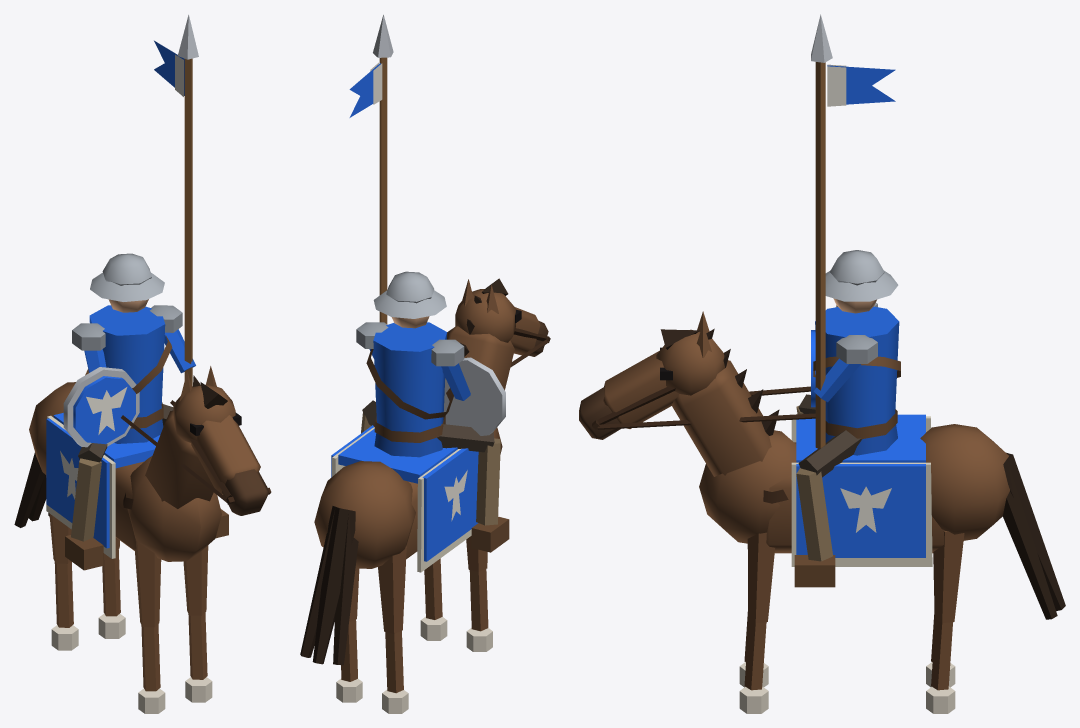
File: assault_dl2_blue.glb
The picture shows the model from 3 angles, left to right: view 1: azimuth 30°, elevation 25°; view 2: azimuth 150°, elevation 25°; view 3: azimuth 270°, elevation 25°; orthographic projection. The views are drawn at different scales.
Visible parts, largest first — view 1: assault_dl2_blue; view 2: assault_dl2_blue; view 3: assault_dl2_blue.
Boxes of the visible parts, box(x1,y1,x2,y2) form: assault_dl2_blue: box(14, 14, 271, 713); assault_dl2_blue: box(300, 14, 550, 713); assault_dl2_blue: box(579, 14, 1065, 713).
Bounding box in the file's own units: 0.2333 × 0.96 × 0.6004.
1 material, 1 textured.
